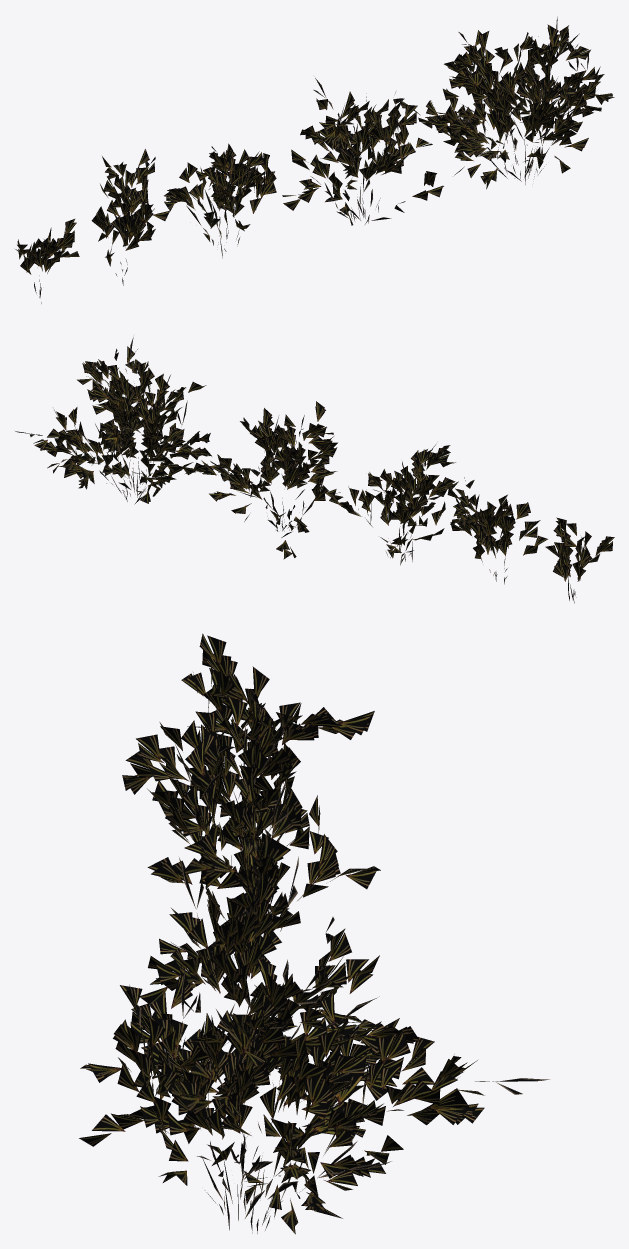
Rendered from wild_rooibos_bush_lod1.glb.
3 renders of one model, top to bottom at view 1: azimuth 30°, elevation 25°; view 2: azimuth 150°, elevation 25°; view 3: azimuth 270°, elevation 25°, orthographic. The views are drawn at different scales.
Visible parts, largest first — view 1: wild_rooibos_bush_a, wild_rooibos_bush_b, wild_rooibos_bush_c, wild_rooibos_bush_d, wild_rooibos_bush_e; view 2: wild_rooibos_bush_a, wild_rooibos_bush_b, wild_rooibos_bush_c, wild_rooibos_bush_d, wild_rooibos_bush_e; view 3: wild_rooibos_bush_a, wild_rooibos_bush_b, wild_rooibos_bush_c, wild_rooibos_bush_d, wild_rooibos_bush_e.
Boxes of the visible parts, bbox=[...] form: wild_rooibos_bush_a: bbox=[400, 16, 614, 189]; wild_rooibos_bush_b: bbox=[282, 78, 443, 225]; wild_rooibos_bush_c: bbox=[164, 143, 276, 258]; wild_rooibos_bush_d: bbox=[91, 149, 169, 285]; wild_rooibos_bush_e: bbox=[15, 219, 79, 303]; wild_rooibos_bush_a: bbox=[15, 337, 222, 504]; wild_rooibos_bush_b: bbox=[202, 401, 343, 559]; wild_rooibos_bush_c: bbox=[329, 443, 458, 565]; wild_rooibos_bush_d: bbox=[447, 477, 547, 584]; wild_rooibos_bush_e: bbox=[545, 517, 614, 603]; wild_rooibos_bush_a: bbox=[79, 958, 549, 1234]; wild_rooibos_bush_b: bbox=[130, 778, 379, 1075]; wild_rooibos_bush_c: bbox=[122, 720, 380, 957]; wild_rooibos_bush_d: bbox=[159, 666, 374, 865]; wild_rooibos_bush_e: bbox=[181, 633, 265, 798].
Bounding box in the file's own units: 2.27 × 0.5418 × 0.8388.
3 materials, 3 textured.
